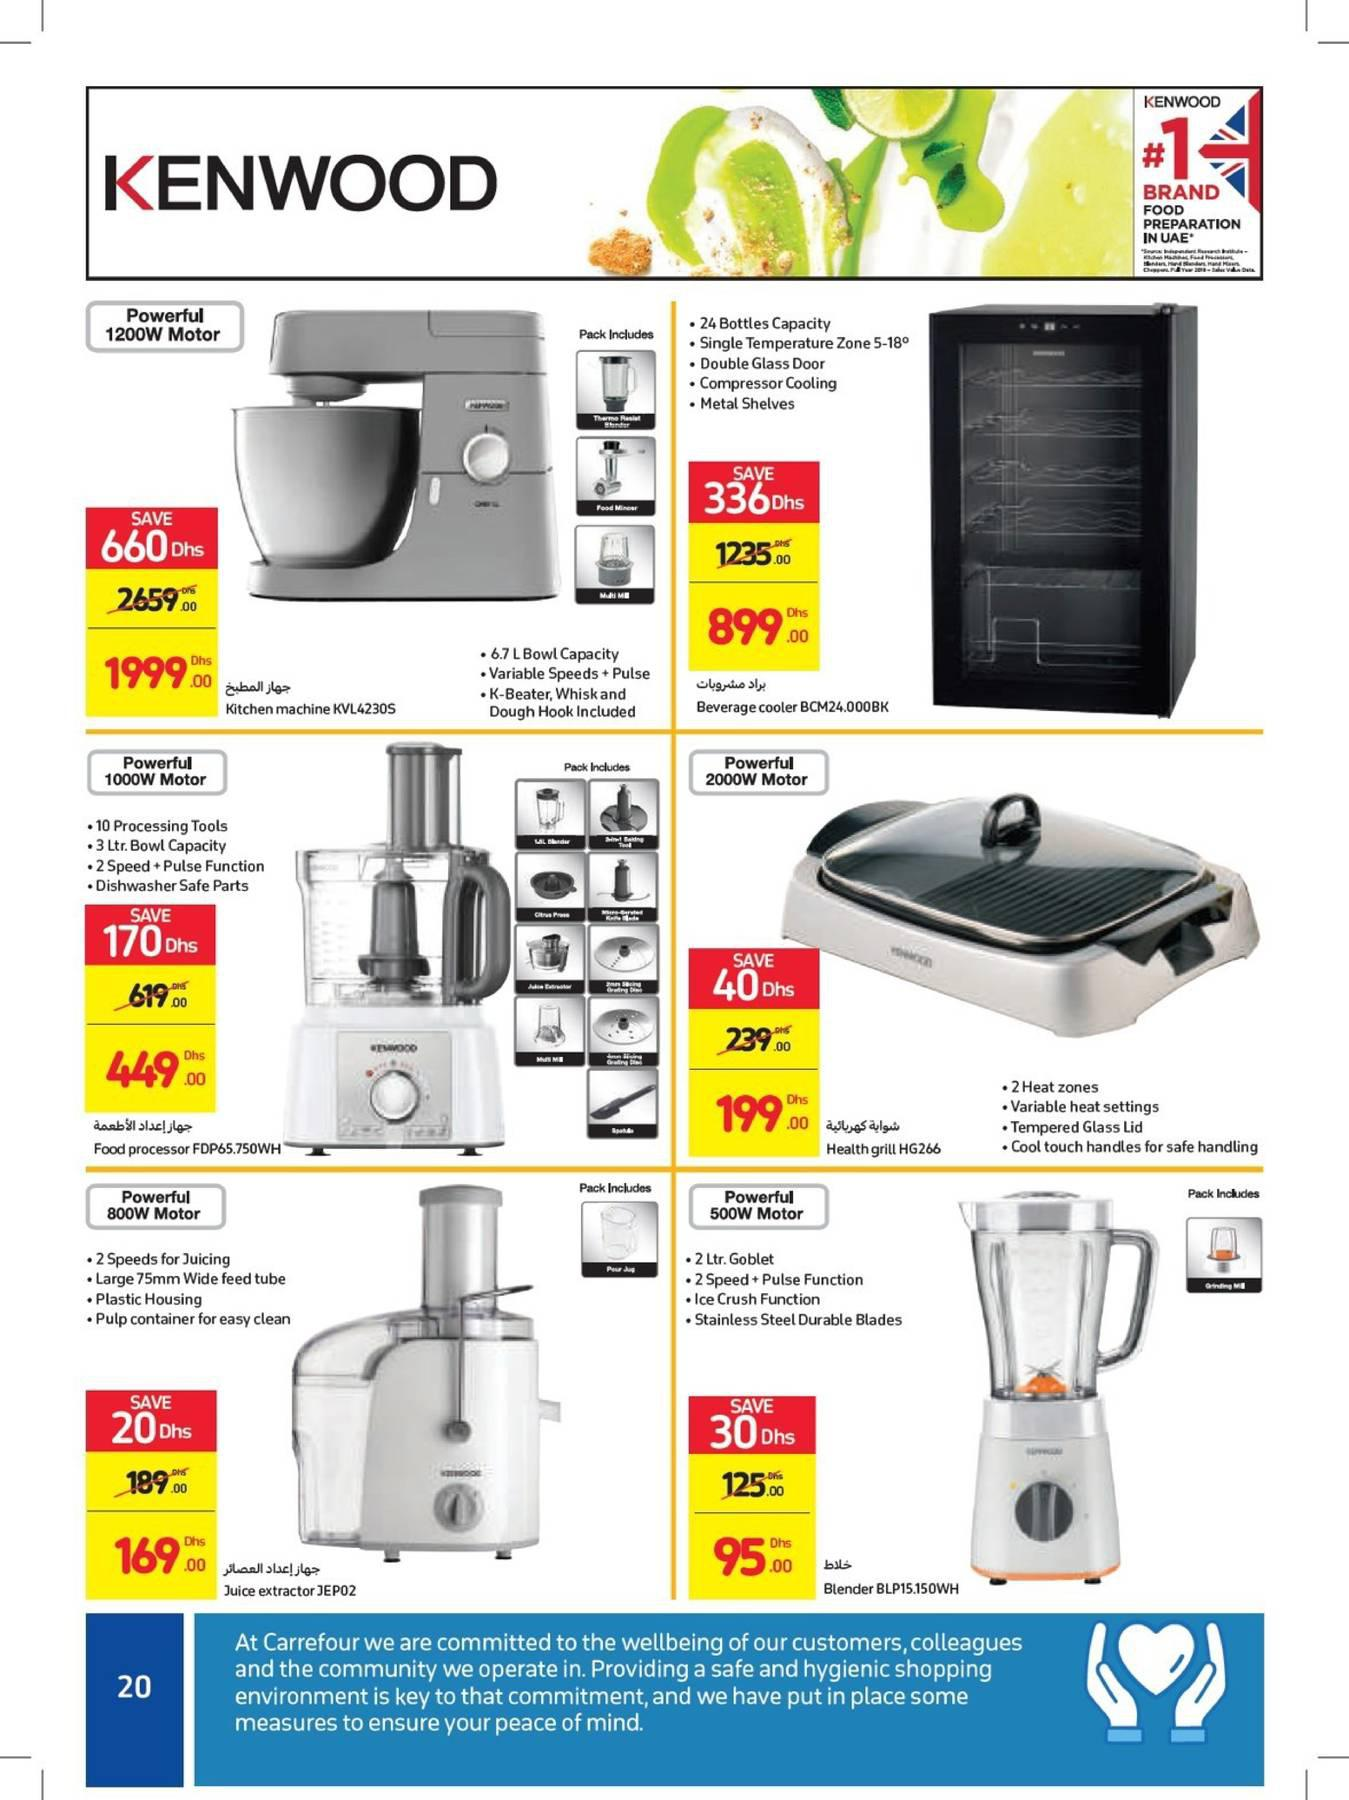text: (220, 665, 411, 726), (689, 676, 903, 724), (84, 1115, 285, 1164), (218, 1551, 366, 1607), (818, 1546, 965, 1602), (820, 1111, 968, 1162)
